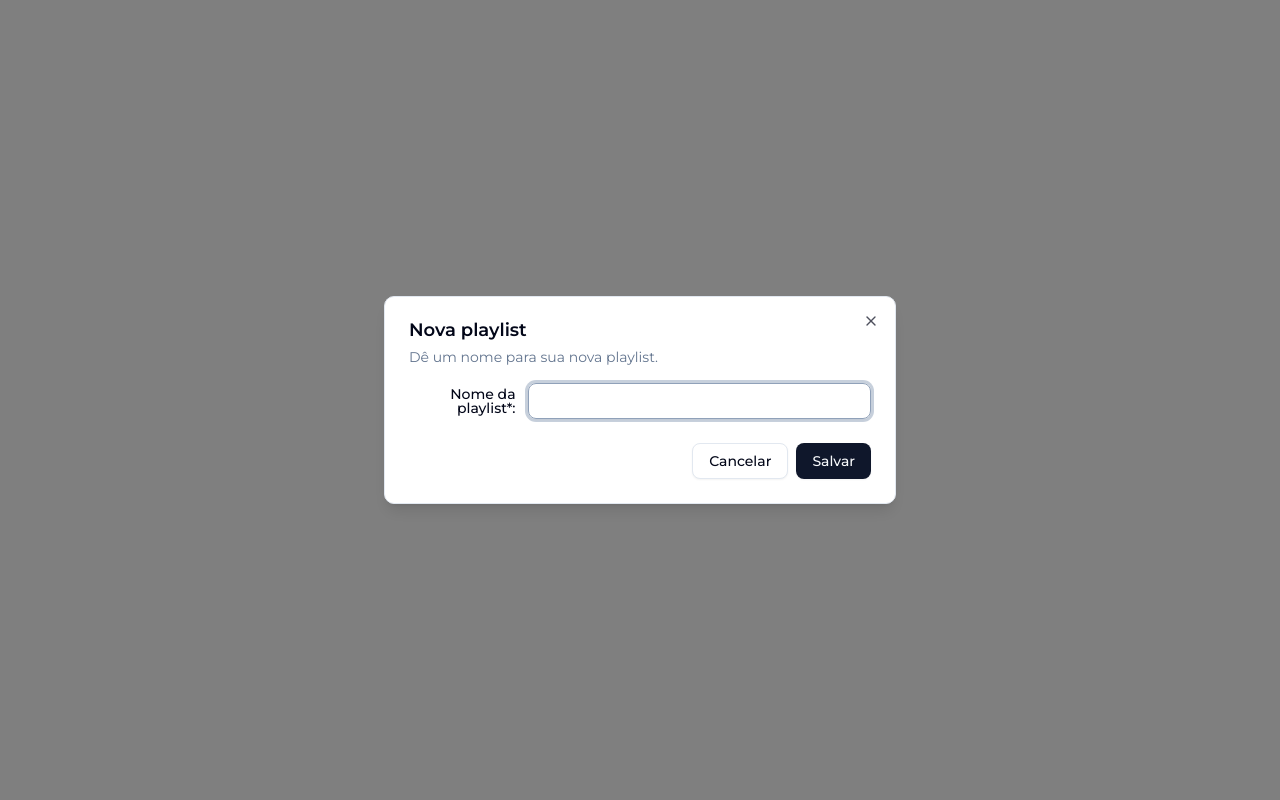
Test case: <CreateNewPlaylist /> › exibe mensagem de erro se o campo estiver vazio
Click the button "Salvar" at (834, 461), box left=796, top=443, right=871, bottom=479
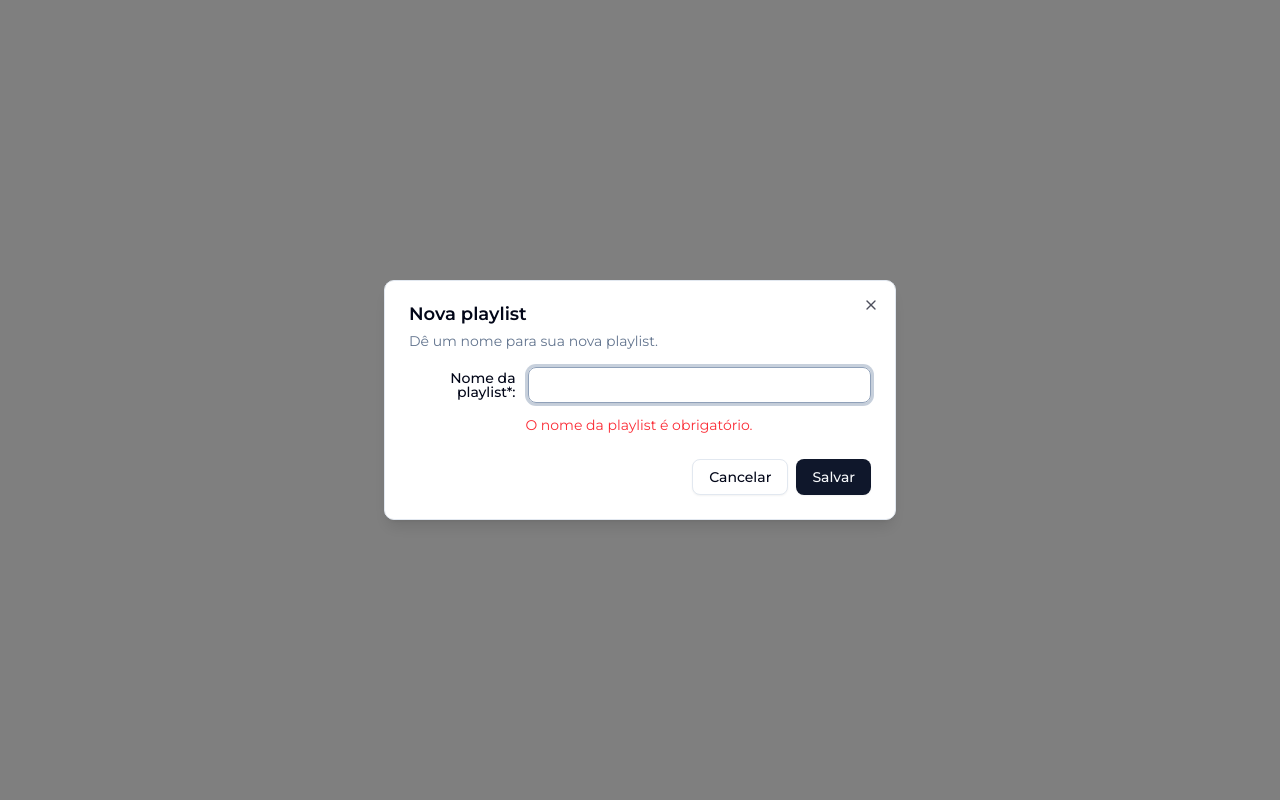
Result: the text "O nome da playlist é obrigatório." is shown at left=525, top=416, right=752, bottom=434
